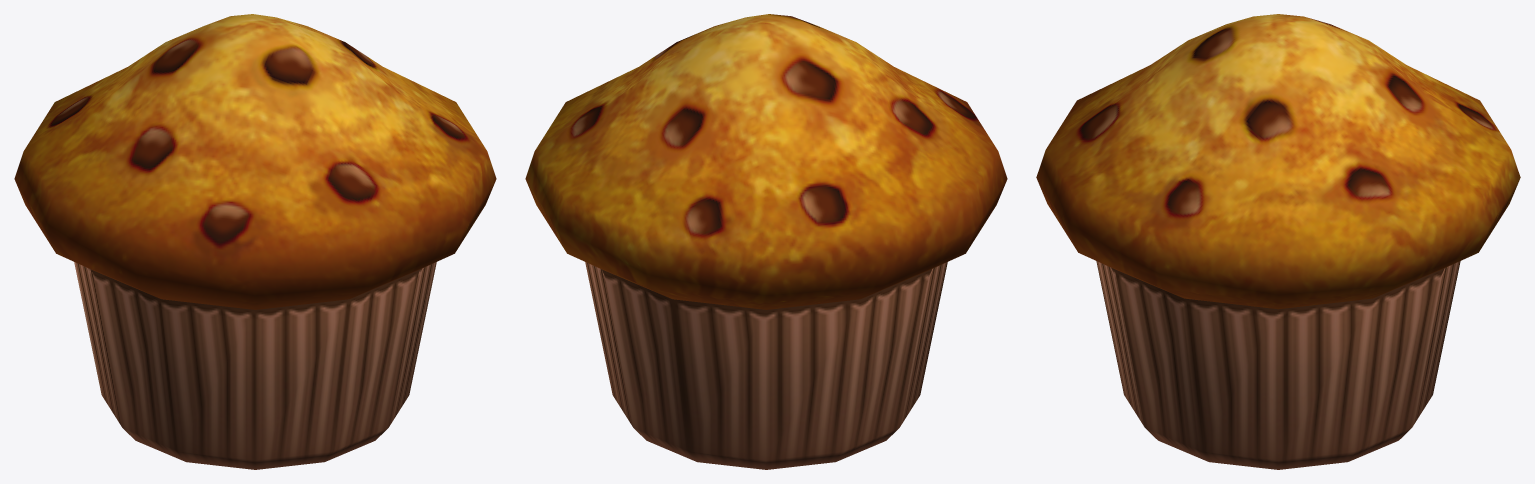
The model's file is 010-Muffins_01.FBX.
The picture shows the model from 3 angles, left to right: view 1: azimuth 30°, elevation 25°; view 2: azimuth 150°, elevation 25°; view 3: azimuth 270°, elevation 25°; orthographic projection.
Visible parts, largest first — view 1: 010-Muffins_001; view 2: 010-Muffins_001; view 3: 010-Muffins_001.
Part boxes in pixels (x1=…): 010-Muffins_001: x1=14, y1=14, x2=496, y2=469; 010-Muffins_001: x1=525, y1=14, x2=1007, y2=469; 010-Muffins_001: x1=1036, y1=14, x2=1520, y2=469.
Size of the model in its own units: 19.43 by 17.2 by 19.43.
